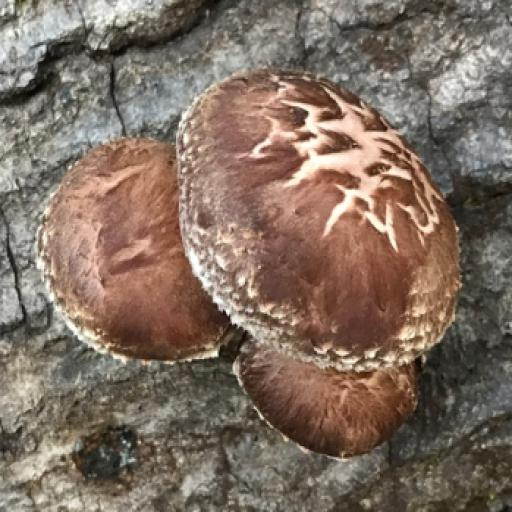Shiitake Mushroom: (17, 14, 508, 454)
